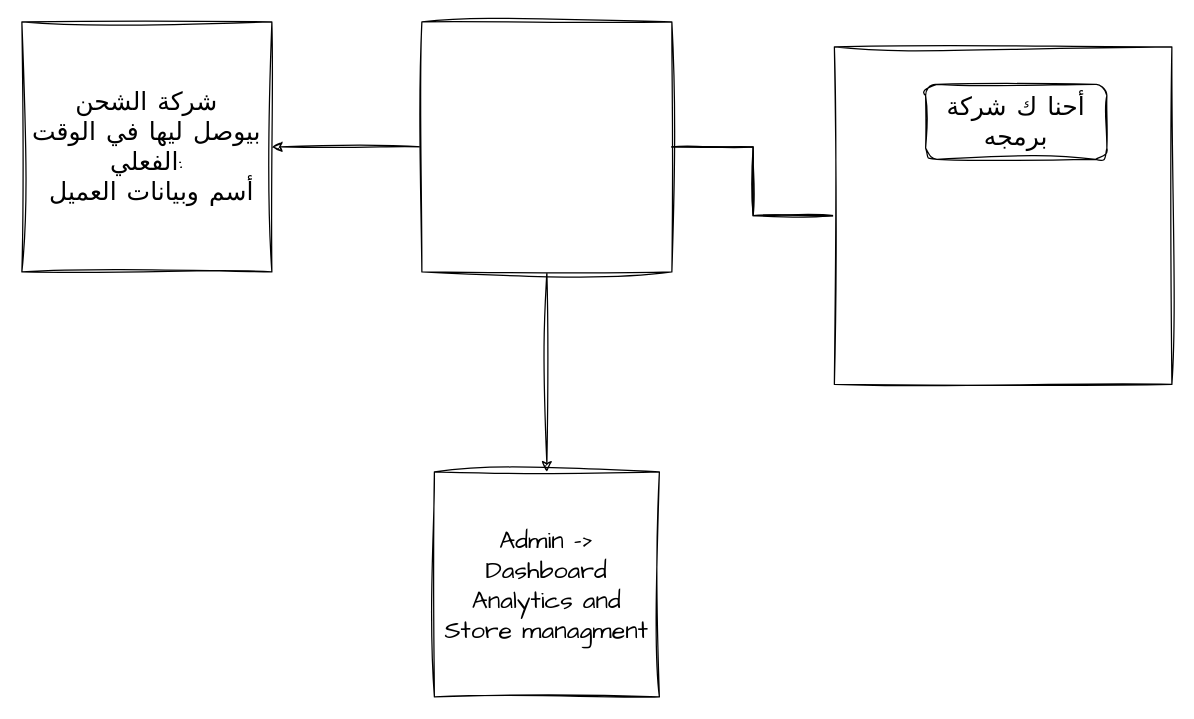
The diagram is 1194 pixels wide and 719 high, and some of its shapes have lost their labels. Here are the shapes that lost their labels. From the top down, the box of each, then its label:
(421, 21, 672, 272): Client -> Online Website itself
(833, 46, 1172, 384): - Errors - Logs - Database - Security
